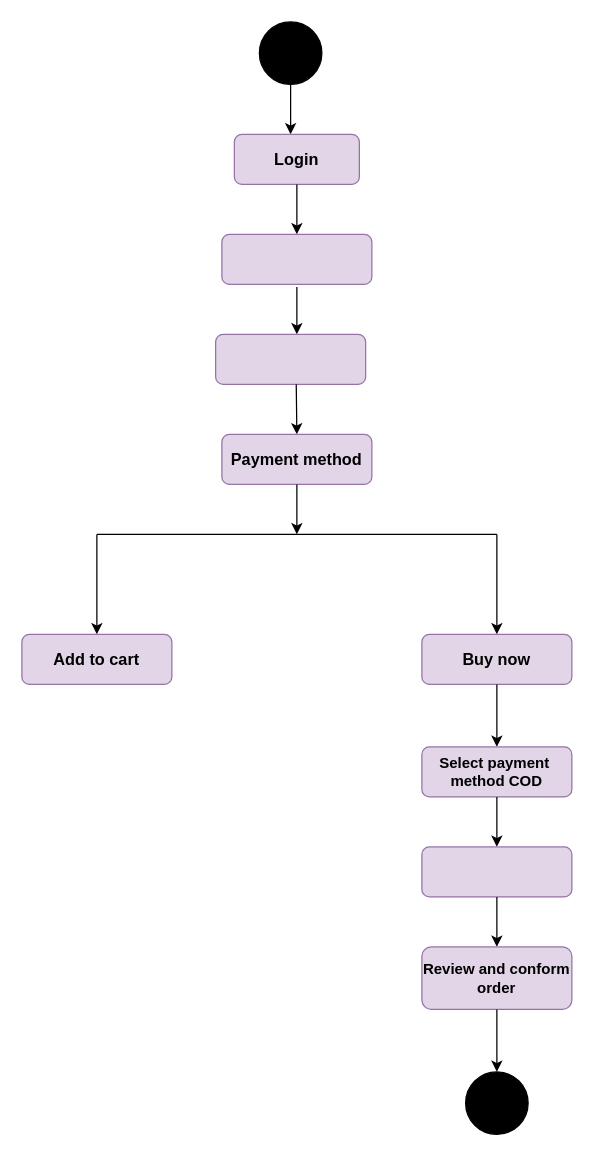
Some shapes in this 594 by 1156 pixel diagram are drawn without their labels. The centre of each missing label's shape, as x and y in pixels:
"Browse for desire item" belongs at point 296,258.
"Enter quantity" belongs at point 290,358.
"Enter users details" belongs at point 496,871.
